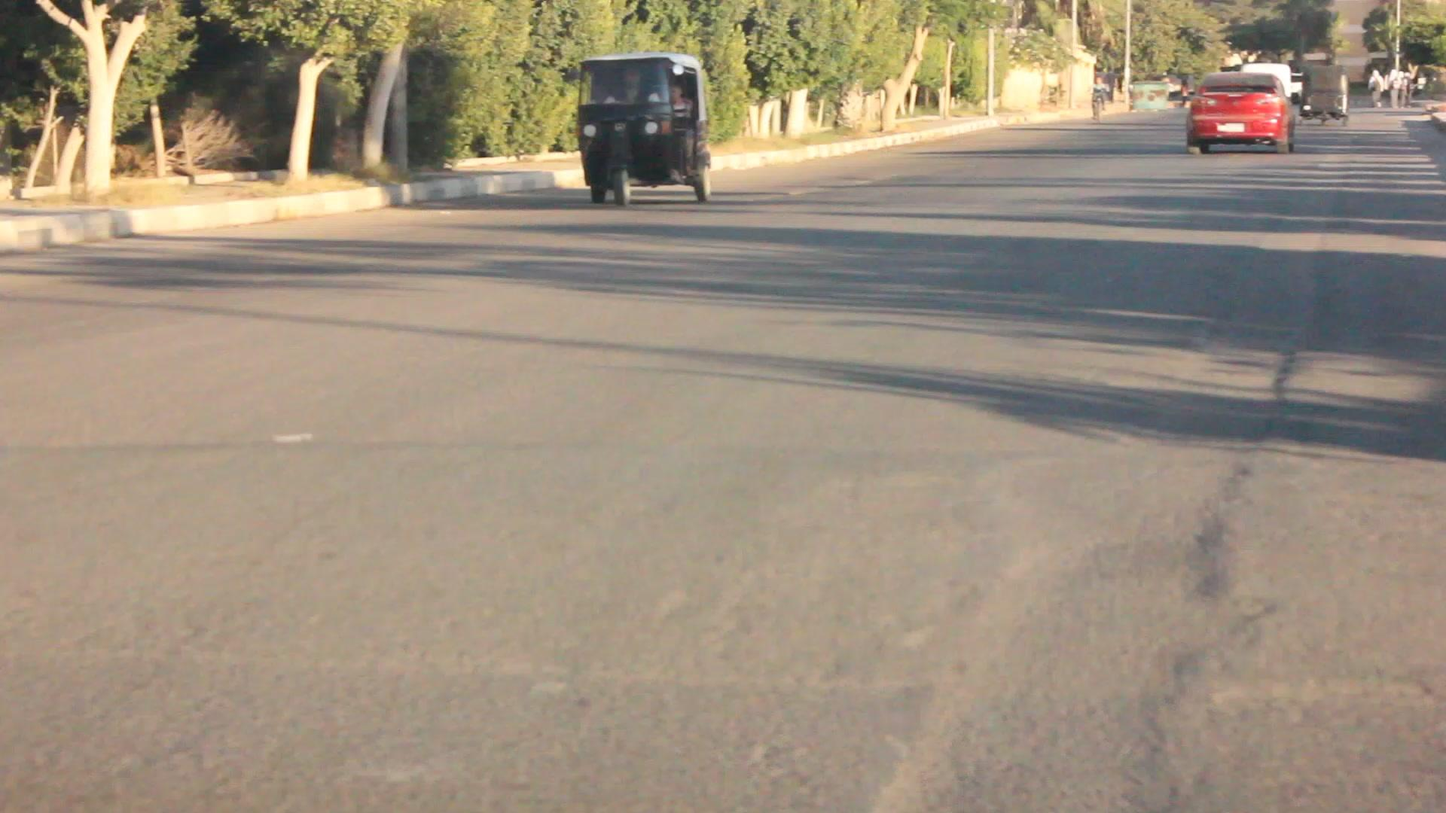Bump: (0, 442, 1446, 708)
Pothole: (1005, 533, 1205, 807)
